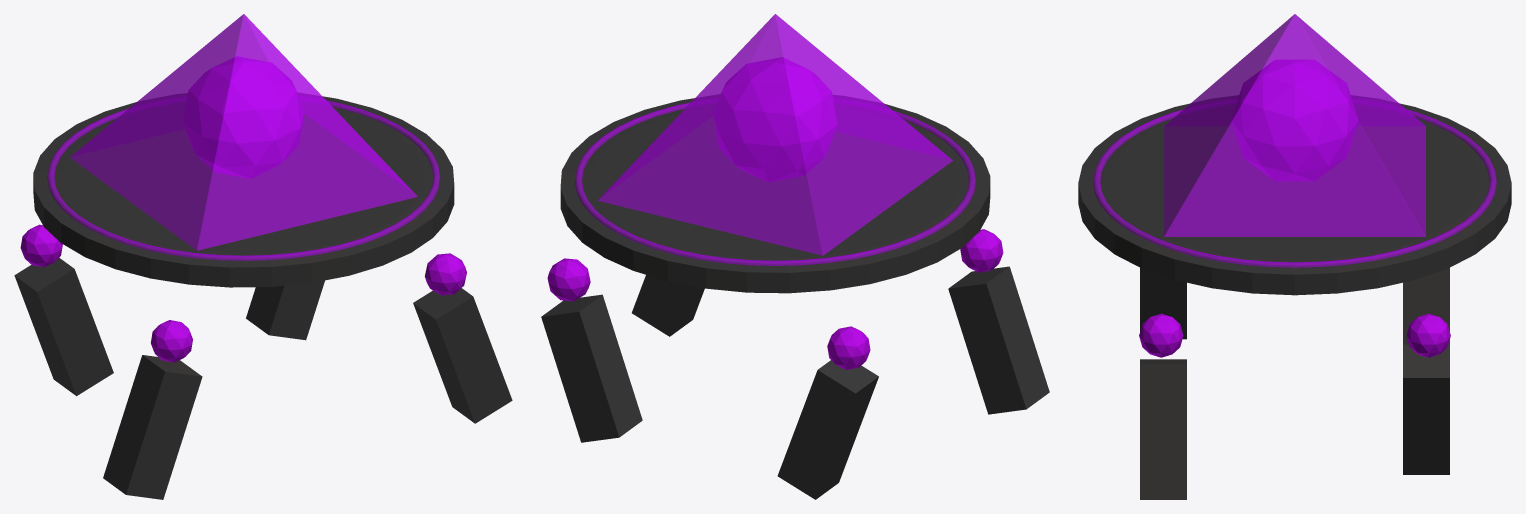
The model's file is walker.fbx.
3 renders of one model, left to right at view 1: azimuth 30°, elevation 25°; view 2: azimuth 150°, elevation 25°; view 3: azimuth 270°, elevation 25°, orthographic. The views are drawn at different scales.
Visible parts, largest first — view 1: base, pyramid, Icosphere, leg.003, leg.001, leg.004, Torus, leg.002, legTop.002, legTop.003, legTop; view 2: base, pyramid, Icosphere, leg.002, leg.003, leg.001, Torus, leg.004, legTop, legTop.001, legTop.002; view 3: base, pyramid, Icosphere, leg.004, leg.002, Torus, leg.001, leg.003, legTop.001, legTop.003.
Part boxes in pixels (x1,y1,x2,y2): base: (33,93,454,287); pyramid: (70,14,417,250); Icosphere: (183,56,304,178); leg.003: (103,355,202,499); leg.001: (14,257,113,396); leg.004: (413,288,512,423); Torus: (47,100,440,260); leg.002: (246,280,324,340); legTop.002: (151,320,192,362); legTop.003: (424,253,466,295); legTop: (20,224,62,267); base: (560,95,990,293); pyramid: (598,14,952,255); Icosphere: (713,57,837,182); leg.002: (541,294,642,442); leg.003: (948,266,1049,414); leg.001: (777,360,878,499); Torus: (574,102,975,266); leg.004: (632,275,704,336); legTop: (827,326,870,369); legTop.001: (547,258,590,301); legTop.002: (960,229,1003,272); base: (1078,96,1511,295); pyramid: (1164,14,1425,236); Icosphere: (1231,60,1358,180); leg.004: (1140,359,1186,499); leg.002: (1403,344,1449,474); Torus: (1093,109,1496,267); leg.001: (1403,267,1449,344); leg.003: (1140,267,1186,339); legTop.001: (1406,313,1450,357); legTop.003: (1139,313,1183,357).
Bounding box in the file's own units: 720 × 698 × 680.
